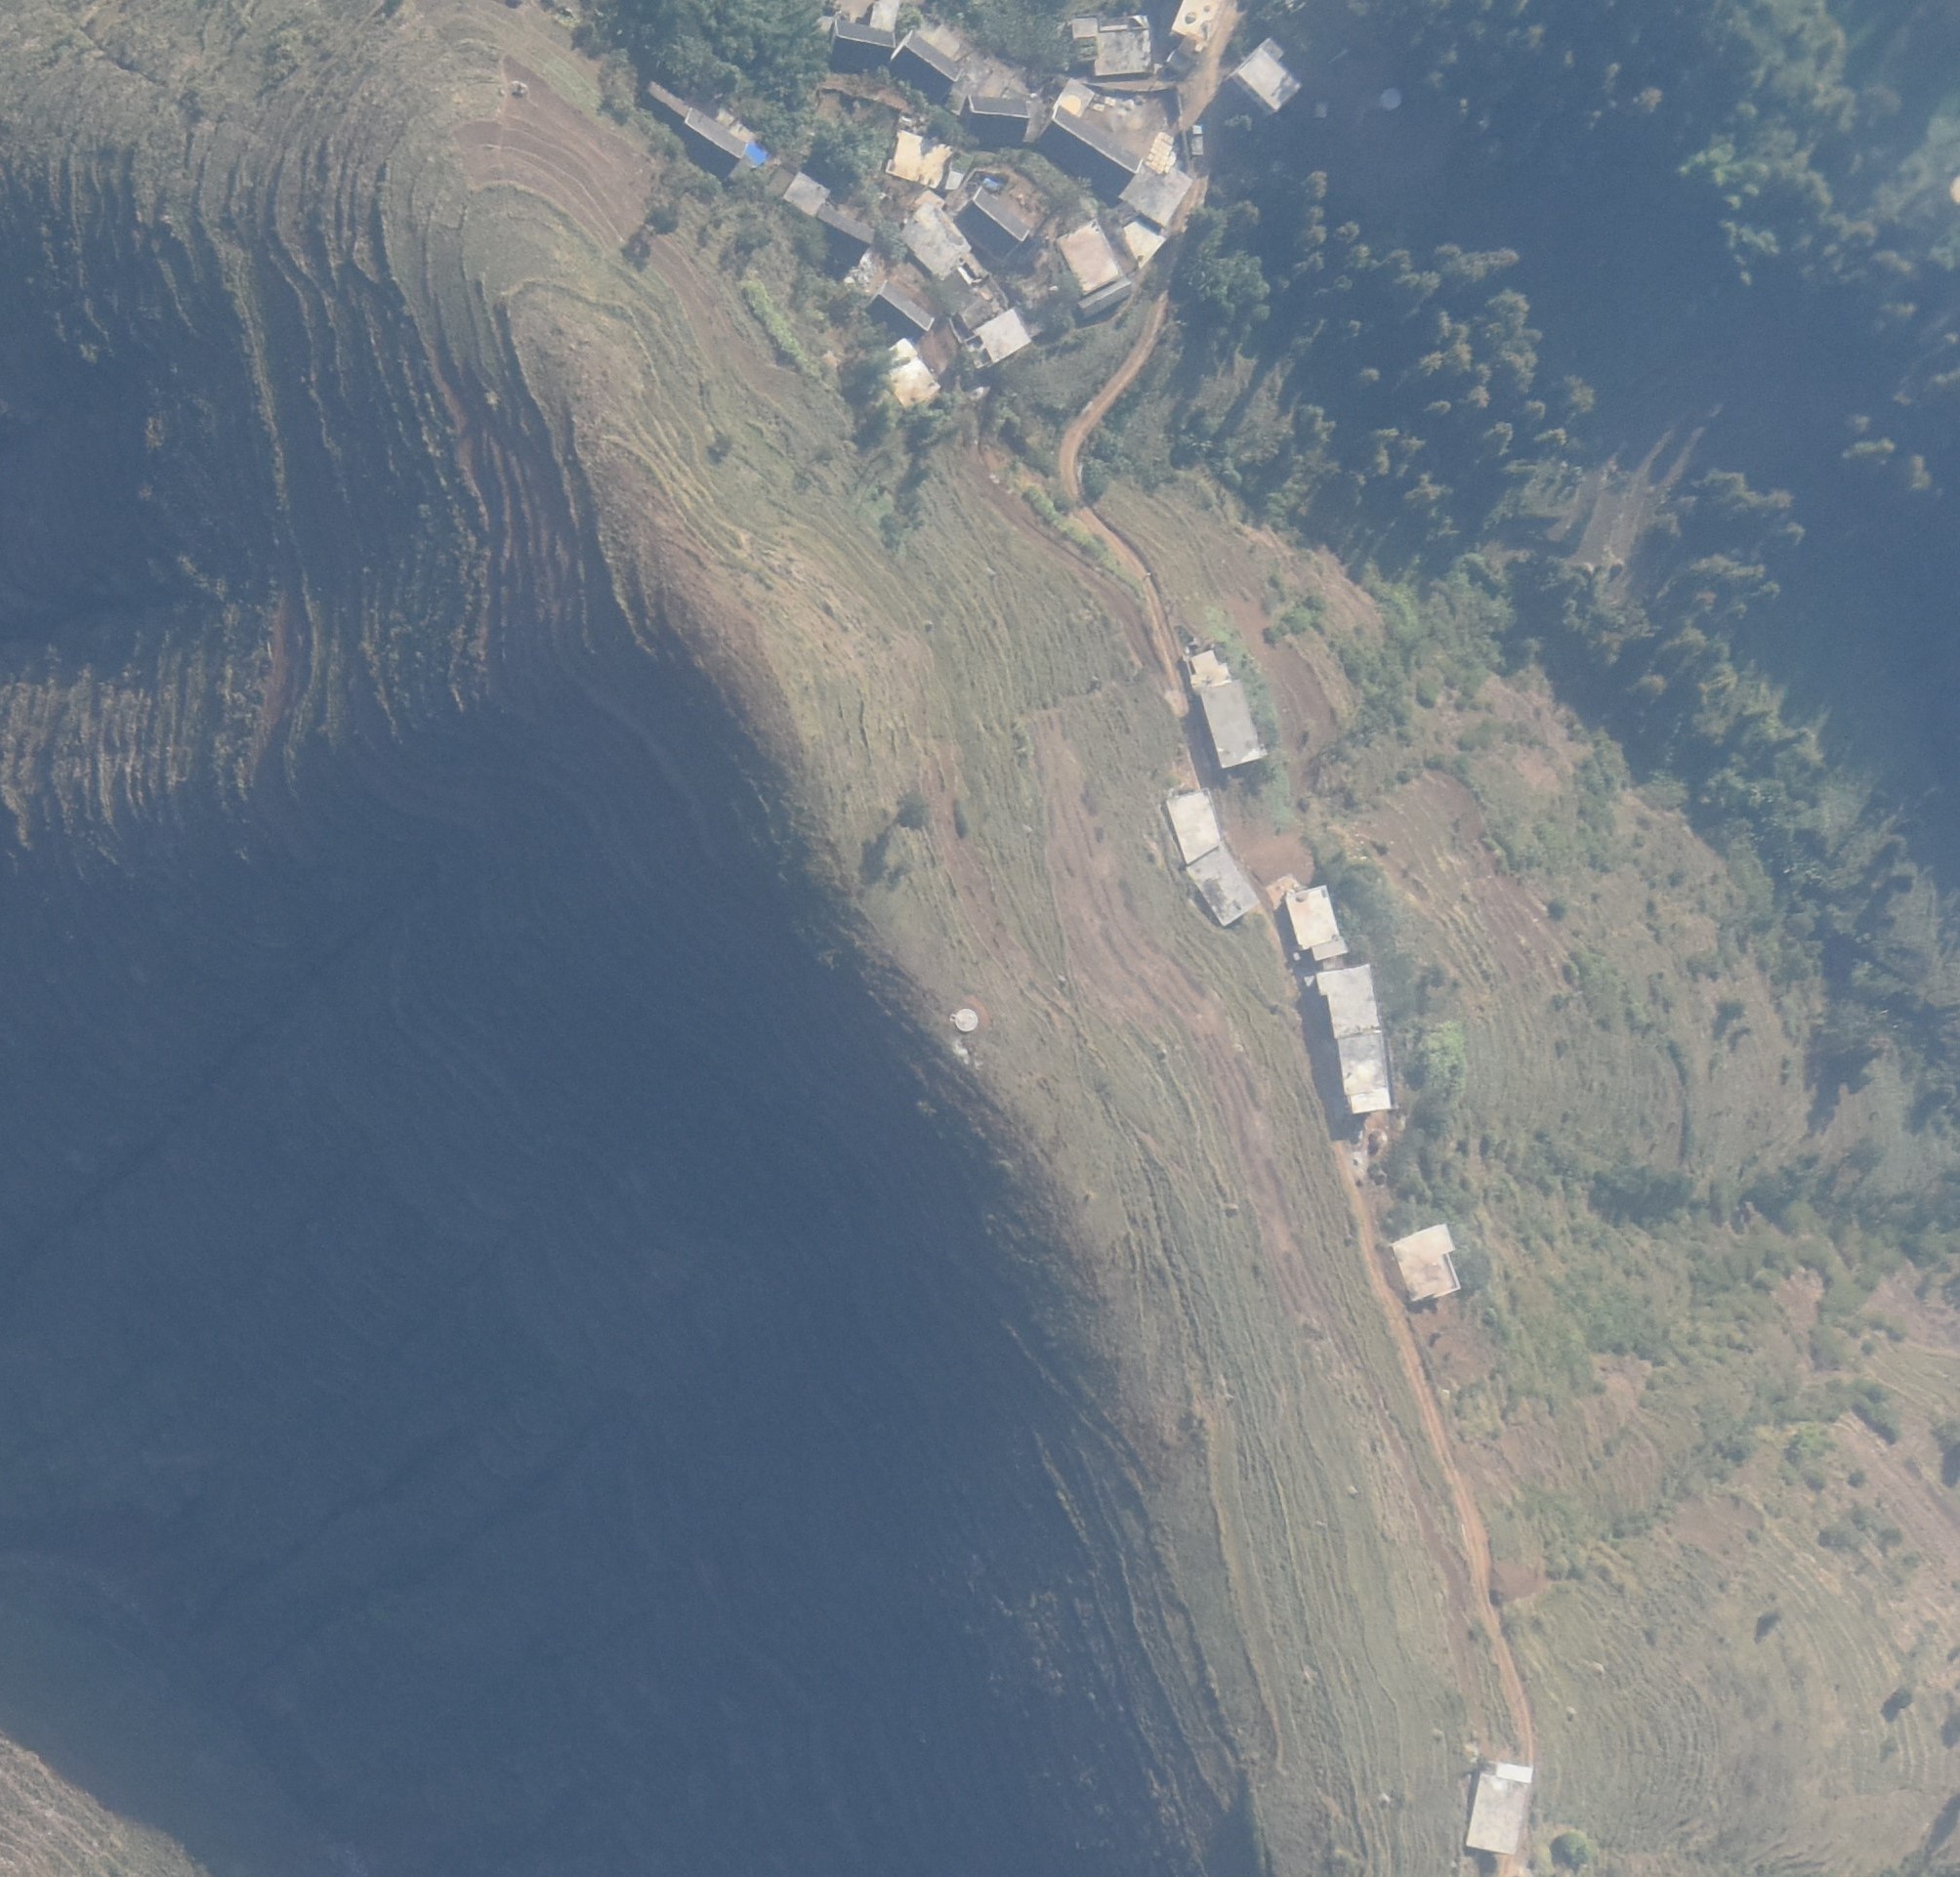building: (1165, 789, 1258, 927), (1316, 964, 1393, 1116), (1036, 107, 1143, 196), (1190, 649, 1267, 770), (1466, 1765, 1533, 1856), (955, 187, 1032, 264), (887, 129, 975, 196), (1062, 16, 1153, 77), (899, 203, 971, 280), (1391, 1223, 1461, 1301), (1055, 215, 1122, 296), (1234, 38, 1304, 110), (1122, 156, 1195, 224), (889, 31, 962, 98), (1284, 885, 1347, 960), (877, 338, 941, 409), (682, 107, 747, 178), (864, 280, 933, 343), (964, 306, 1031, 369), (812, 206, 877, 262), (831, 19, 896, 63), (964, 96, 1031, 138), (1078, 278, 1130, 320), (1122, 217, 1165, 266), (1171, 2, 1221, 44), (784, 171, 829, 217)
vehicle: (1192, 124, 1200, 156)
well: (954, 1008, 978, 1032), (1381, 87, 1403, 110)
